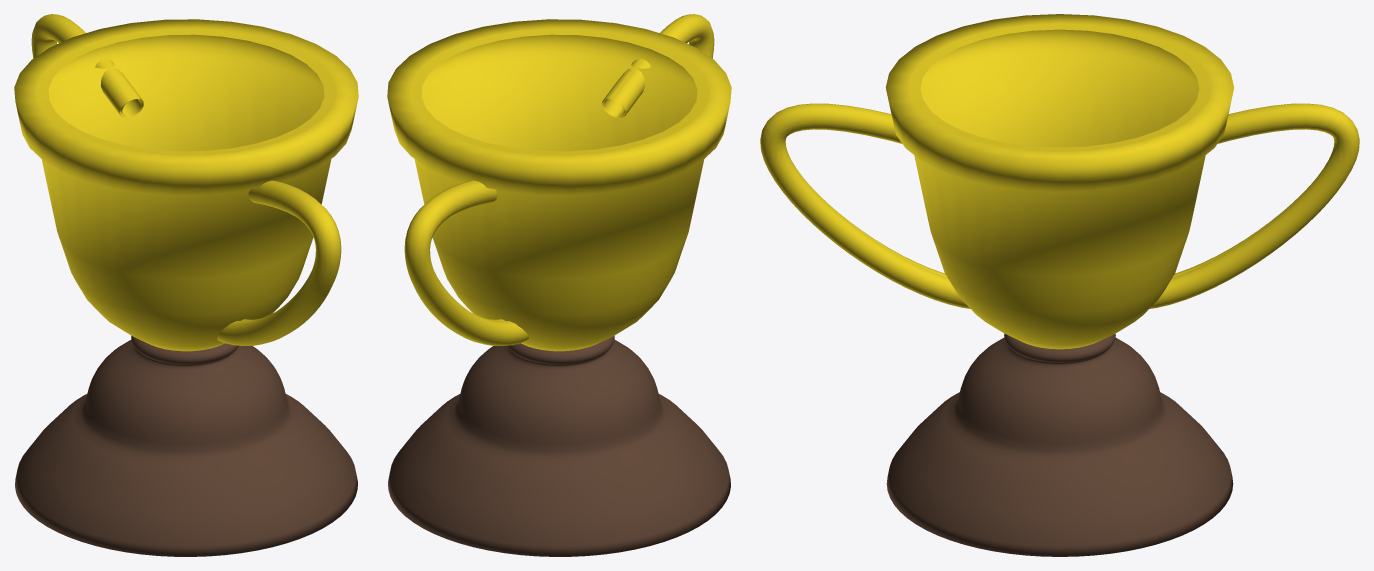
File: Trophy.fbx
3 views of the same model, side by side, from view 1: azimuth 30°, elevation 25°; view 2: azimuth 150°, elevation 25°; view 3: azimuth 270°, elevation 25° (orthographic).
Parts seen in each view (by area): view 1: Sphere, Cylinder, NurbsPath; view 2: Sphere, Cylinder, NurbsPath; view 3: Sphere, Cylinder, NurbsPath.
Part boxes in pixels (x1=…): Sphere: x1=14, y1=19, x2=358, y2=351; Cylinder: x1=15, y1=335, x2=357, y2=556; NurbsPath: x1=31, y1=14, x2=341, y2=345; Sphere: x1=387, y1=19, x2=731, y2=351; Cylinder: x1=388, y1=335, x2=730, y2=556; NurbsPath: x1=404, y1=14, x2=714, y2=345; Sphere: x1=885, y1=14, x2=1234, y2=349; Cylinder: x1=886, y1=333, x2=1233, y2=556; NurbsPath: x1=760, y1=103, x2=1359, y2=308.
Size of the model in its own units: 465 by 583 by 799.
